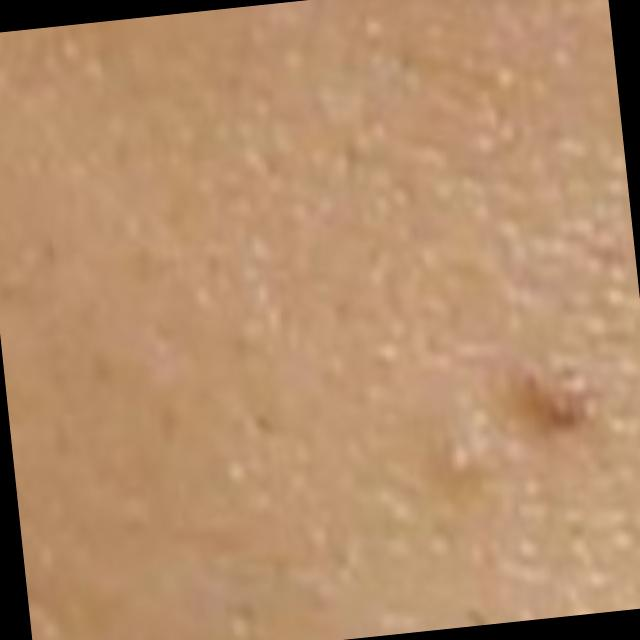blackhead: (547, 394, 575, 427)
